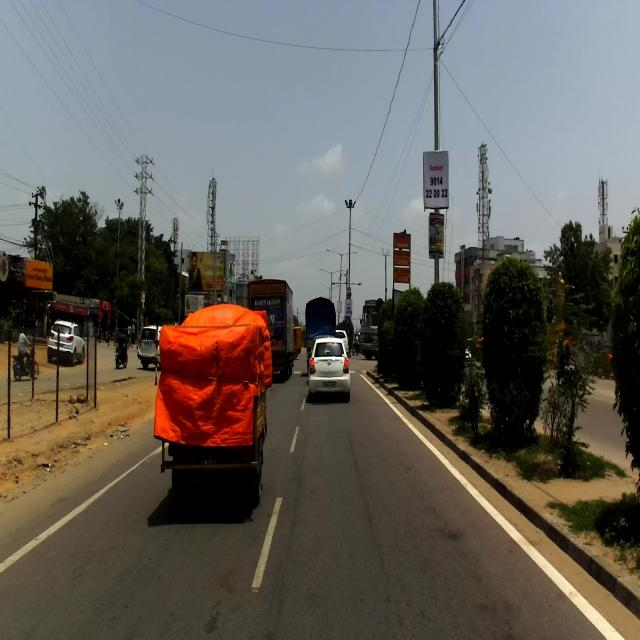autorickshaw: (154, 300, 272, 503)
car: (306, 330, 349, 406)
